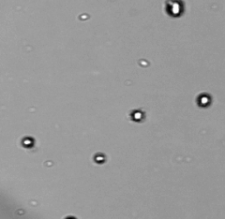Living Cell: (165, 1, 184, 17), (196, 92, 212, 108), (130, 108, 146, 123), (21, 136, 35, 148), (93, 152, 106, 164)
